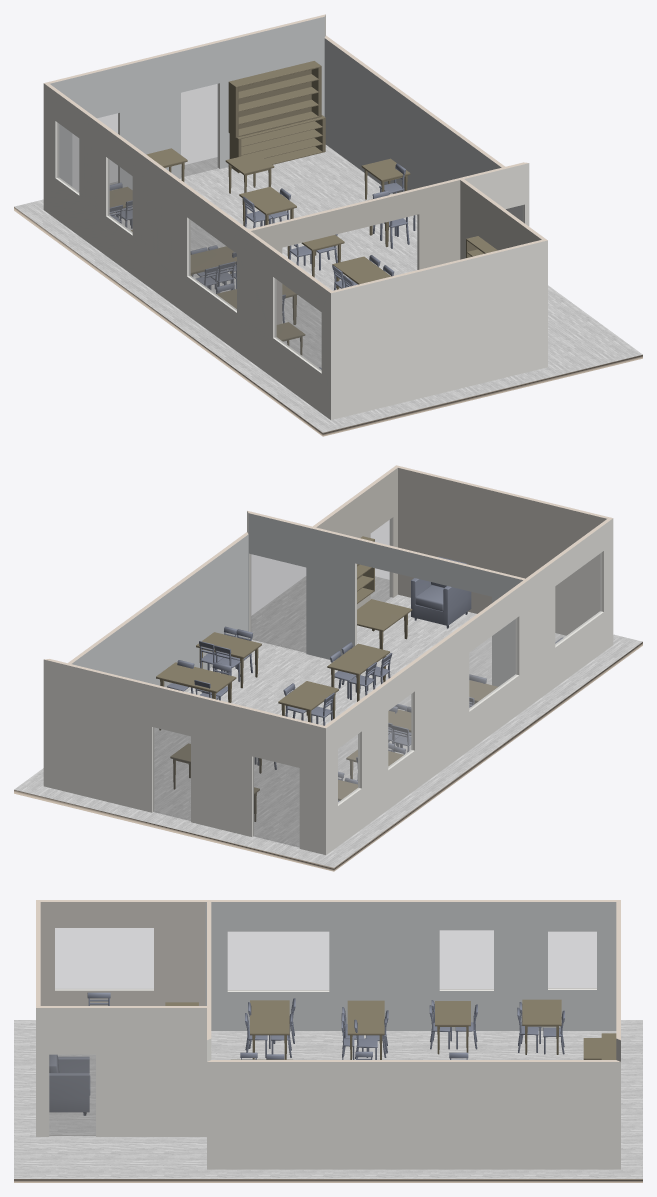
The model's file is Nov17at8-30AM-poly.fbx.
3 views of the same model, one above another, from view 1: azimuth 30°, elevation 25°; view 2: azimuth 150°, elevation 25°; view 3: azimuth 270°, elevation 25° (orthographic).
Parts seen in each view (by area): view 1: wall_5-1.wall_4-3.wall_4-1.wall_2-1.wall_3-4.wall_1-3.wall_3, wall_2-0.wall_3-1.wall_5-0.wall_4-0, floor_0-0, object_1.object_2.object_3.object_4.object_12.object_14.obje, wall_3-0.wall_2-2.wall_0-0.wall_1-0, window_2.window_1.window_0.window_3, wall_2-3.wall_4-2.wall_1-2.wall_3-3.wall_0-2.wall_5-2, door_2.door_0.door_3.door_1, object_6.object_7.object_8.object_9.object_10.object_11.obje, floor_0-1; view 2: wall_5-1.wall_4-3.wall_4-1.wall_2-1.wall_3-4.wall_1-3.wall_3, floor_0-0, wall_2-0.wall_3-1.wall_5-0.wall_4-0, wall_3-0.wall_2-2.wall_0-0.wall_1-0, door_2.door_0.door_3.door_1, object_1.object_2.object_3.object_4.object_12.object_14.obje, window_2.window_1.window_0.window_3, object_6.object_7.object_8.object_9.object_10.object_11.obje, wall_2-3.wall_4-2.wall_1-2.wall_3-3.wall_0-2.wall_5-2, floor_0-1; view 3: wall_5-1.wall_4-3.wall_4-1.wall_2-1.wall_3-4.wall_1-3.wall_3, wall_2-0.wall_3-1.wall_5-0.wall_4-0, floor_0-0, window_2.window_1.window_0.window_3, wall_3-0.wall_2-2.wall_0-0.wall_1-0, object_1.object_2.object_3.object_4.object_12.object_14.obje, object_6.object_7.object_8.object_9.object_10.object_11.obje, wall_2-3.wall_4-2.wall_1-2.wall_3-3.wall_0-2.wall_5-2, door_2.door_0.door_3.door_1, floor_0-1.
Boxes of the visible parts, left/top/right/bottom form: wall_5-1.wall_4-3.wall_4-1.wall_2-1.wall_3-4.wall_1-3.wall_3: left=43, top=15, right=547, bottom=419; wall_2-0.wall_3-1.wall_5-0.wall_4-0: left=50, top=17, right=522, bottom=221; floor_0-0: left=14, top=145, right=642, bottom=432; object_1.object_2.object_3.object_4.object_12.object_14.obje: left=109, top=61, right=497, bottom=354; wall_3-0.wall_2-2.wall_0-0.wall_1-0: left=251, top=180, right=541, bottom=324; window_2.window_1.window_0.window_3: left=57, top=123, right=321, bottom=370; wall_2-3.wall_4-2.wall_1-2.wall_3-3.wall_0-2.wall_5-2: left=44, top=14, right=547, bottom=293; door_2.door_0.door_3.door_1: left=72, top=83, right=523, bottom=222; object_6.object_7.object_8.object_9.object_10.object_11.obje: left=109, top=163, right=415, bottom=369; floor_0-1: left=14, top=207, right=642, bottom=436; wall_5-1.wall_4-3.wall_4-1.wall_2-1.wall_3-4.wall_1-3.wall_3: left=43, top=511, right=613, bottom=854; floor_0-0: left=14, top=576, right=642, bottom=867; wall_2-0.wall_3-1.wall_5-0.wall_4-0: left=72, top=513, right=522, bottom=687; wall_3-0.wall_2-2.wall_0-0.wall_1-0: left=316, top=468, right=606, bottom=635; door_2.door_0.door_3.door_1: left=153, top=519, right=391, bottom=847; object_1.object_2.object_3.object_4.object_12.object_14.obje: left=156, top=536, right=497, bottom=821; window_2.window_1.window_0.window_3: left=338, top=552, right=601, bottom=803; object_6.object_7.object_8.object_9.object_10.object_11.obje: left=167, top=556, right=562, bottom=801; wall_2-3.wall_4-2.wall_1-2.wall_3-3.wall_0-2.wall_5-2: left=44, top=465, right=612, bottom=728; floor_0-1: left=14, top=642, right=642, bottom=871; wall_5-1.wall_4-3.wall_4-1.wall_2-1.wall_3-4.wall_1-3.wall_3: left=36, top=988, right=620, bottom=1169; wall_2-0.wall_3-1.wall_5-0.wall_4-0: left=205, top=902, right=616, bottom=1030; floor_0-0: left=14, top=1020, right=642, bottom=1178; window_2.window_1.window_0.window_3: left=55, top=928, right=596, bottom=990; wall_3-0.wall_2-2.wall_0-0.wall_1-0: left=40, top=902, right=205, bottom=1135; object_1.object_2.object_3.object_4.object_12.object_14.obje: left=165, top=999, right=616, bottom=1059; object_6.object_7.object_8.object_9.object_10.object_11.obje: left=49, top=992, right=564, bottom=1115; wall_2-3.wall_4-2.wall_1-2.wall_3-3.wall_0-2.wall_5-2: left=36, top=900, right=620, bottom=1061; door_2.door_0.door_3.door_1: left=49, top=1055, right=95, bottom=1135; floor_0-1: left=14, top=1179, right=642, bottom=1182.
Bounding box in the file's own units: 8.5 × 3.32 × 14.21.
9 materials, 1 textured.
